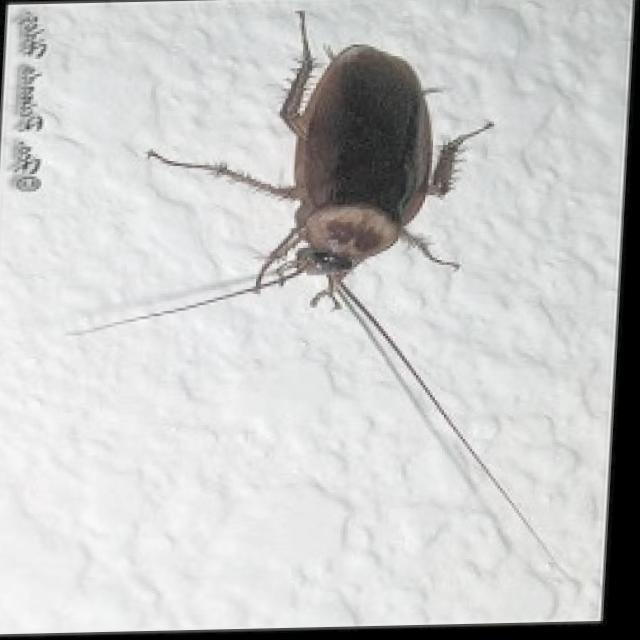cockroach: (287, 41, 438, 268)
